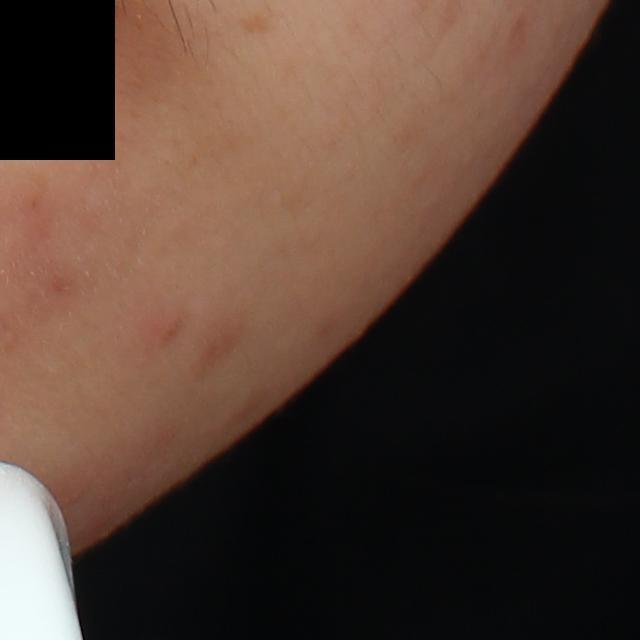papule: (154, 312, 184, 343)
